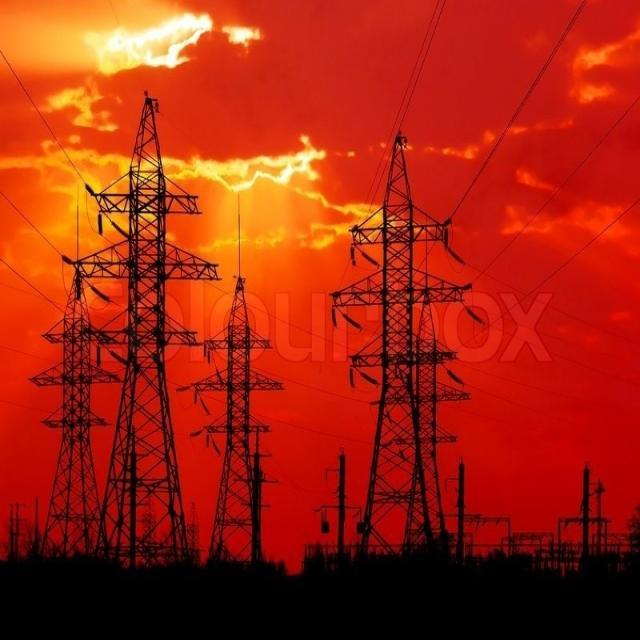non-critical vegetation: (322, 117, 482, 559), (86, 92, 210, 564), (195, 262, 286, 566), (30, 272, 121, 562), (400, 282, 456, 554)
